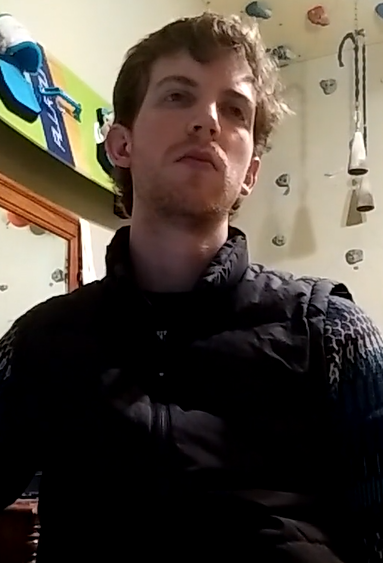Not Sleeping: (147, 75, 261, 132)
